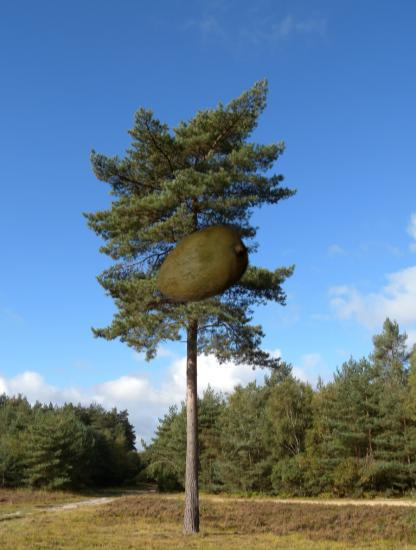Papaya: (152, 216, 251, 315)
